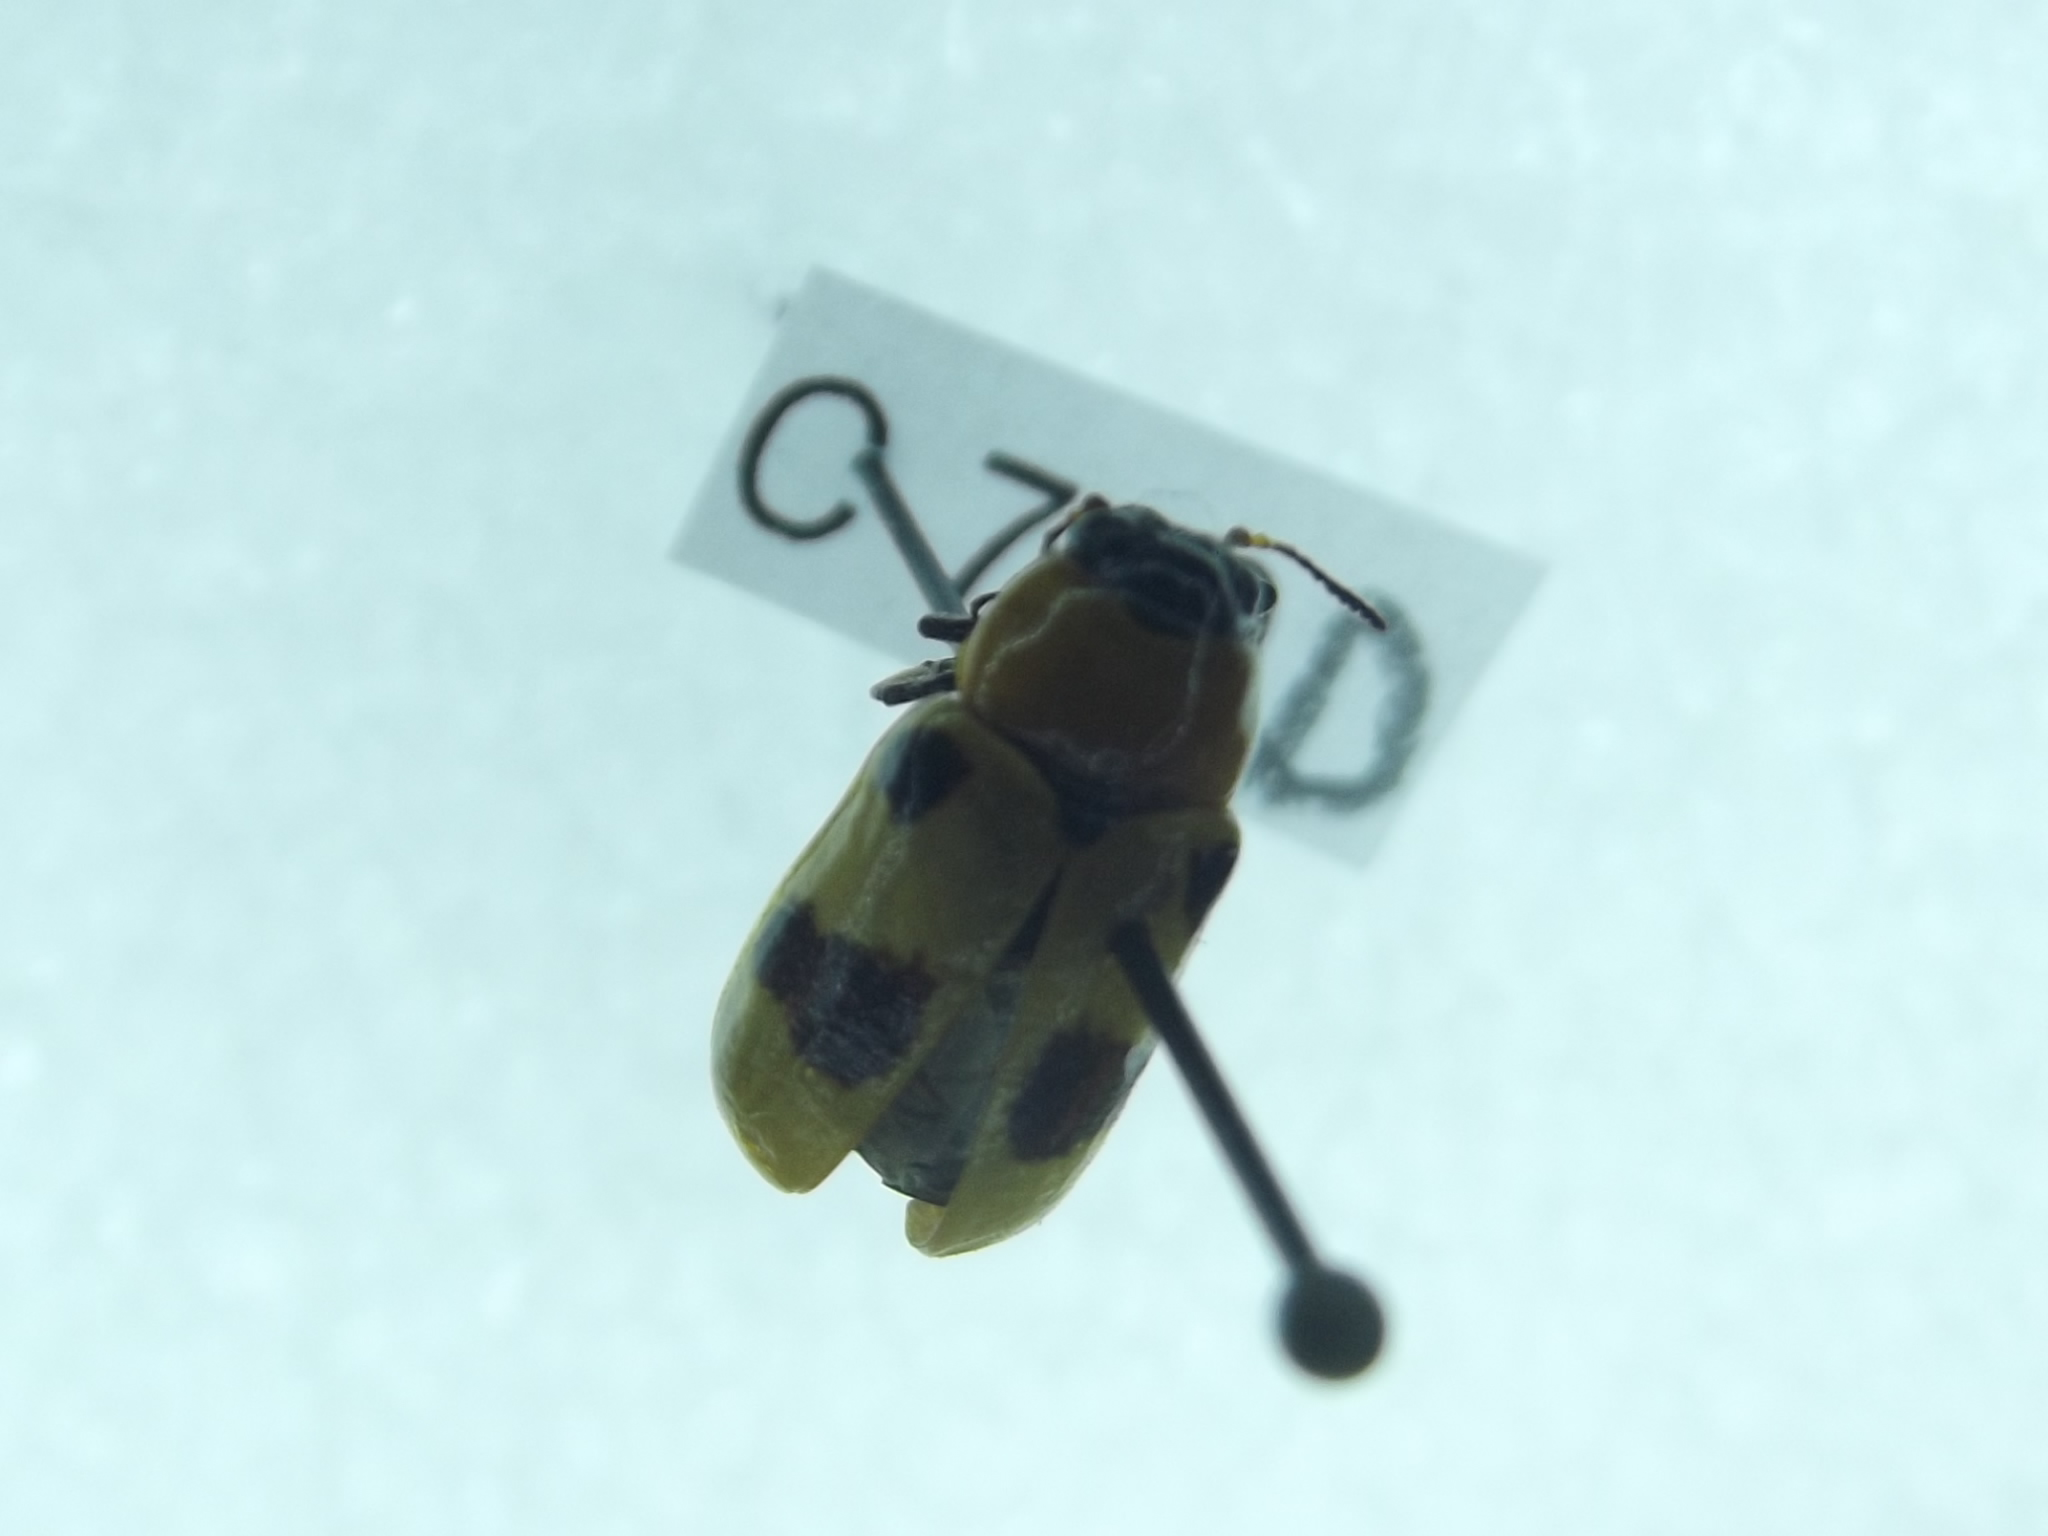Tituboea_macropus: (661, 482, 1393, 1315)
